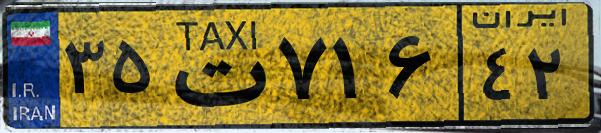1: (330, 28, 385, 110)
2: (525, 38, 570, 115)
3: (57, 26, 110, 100)
4: (475, 38, 525, 113)
5: (110, 28, 158, 98)
6: (385, 28, 445, 110)
7: (270, 28, 330, 110)
ت: (158, 12, 270, 120)
